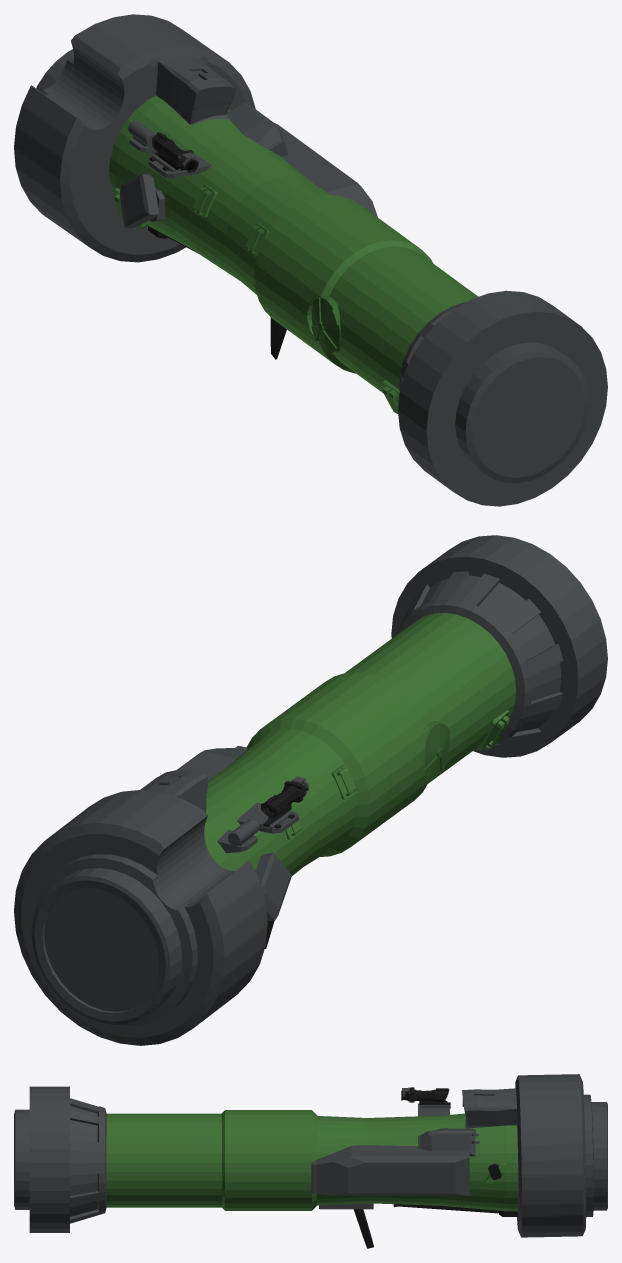
The model's file is NLAW_LOW_POLY.fbx.
3 views of the same model, one above another, from view 1: azimuth 30°, elevation 25°; view 2: azimuth 150°, elevation 25°; view 3: azimuth 270°, elevation 25° (orthographic). The views are drawn at different scales.
Parts seen in each view (by area): view 1: Cylinder.004, Cylinder, Cylinder.007, Cylinder.001, Cube.005, Cube.012, Cube.006, Cylinder.006, ACOG; view 2: Cylinder.007, Cylinder, Cylinder.004, Cylinder.005, Cylinder.001, Cylinder.003, Cube.012, ACOG, Cylinder.006, Cube.005; view 3: Cylinder, Cylinder.007, Cylinder.004, Cylinder.001, Cube.005, Cylinder.005, Cube.006, Cylinder.003, ACOG, Cube.003, Cube.015, Cube.002.
Part boxes in pixels (x1,y1,x2,y2): Cylinder.004: [398, 290, 607, 506]; Cylinder: [109, 95, 478, 395]; Cylinder.007: [14, 14, 255, 262]; Cylinder.001: [254, 195, 433, 373]; Cube.005: [274, 123, 377, 217]; Cube.012: [120, 174, 159, 228]; Cube.006: [227, 102, 287, 156]; Cylinder.006: [311, 296, 340, 353]; ACOG: [149, 132, 198, 172]; Cylinder.007: [14, 770, 267, 1045]; Cylinder: [204, 612, 516, 875]; Cylinder.004: [391, 535, 607, 757]; Cylinder.005: [31, 868, 182, 1024]; Cylinder.001: [246, 672, 429, 856]; Cylinder.003: [35, 854, 197, 1025]; Cube.012: [255, 852, 291, 920]; ACOG: [260, 776, 308, 831]; Cylinder.006: [424, 721, 449, 780]; Cube.005: [176, 746, 247, 779]; Cylinder: [106, 1113, 518, 1211]; Cylinder.007: [462, 1074, 586, 1237]; Cylinder.004: [14, 1086, 106, 1232]; Cylinder.001: [221, 1110, 317, 1210]; Cube.005: [311, 1145, 469, 1195]; Cylinder.005: [591, 1102, 607, 1210]; Cube.006: [418, 1128, 475, 1156]; Cylinder.003: [584, 1094, 593, 1216]; ACOG: [401, 1087, 450, 1108]; Cube.003: [319, 1203, 373, 1248]; Cube.015: [393, 1204, 517, 1216]; Cube.002: [418, 1103, 449, 1116].
Bounding box in the file's own units: 349 × 383 × 1263.
